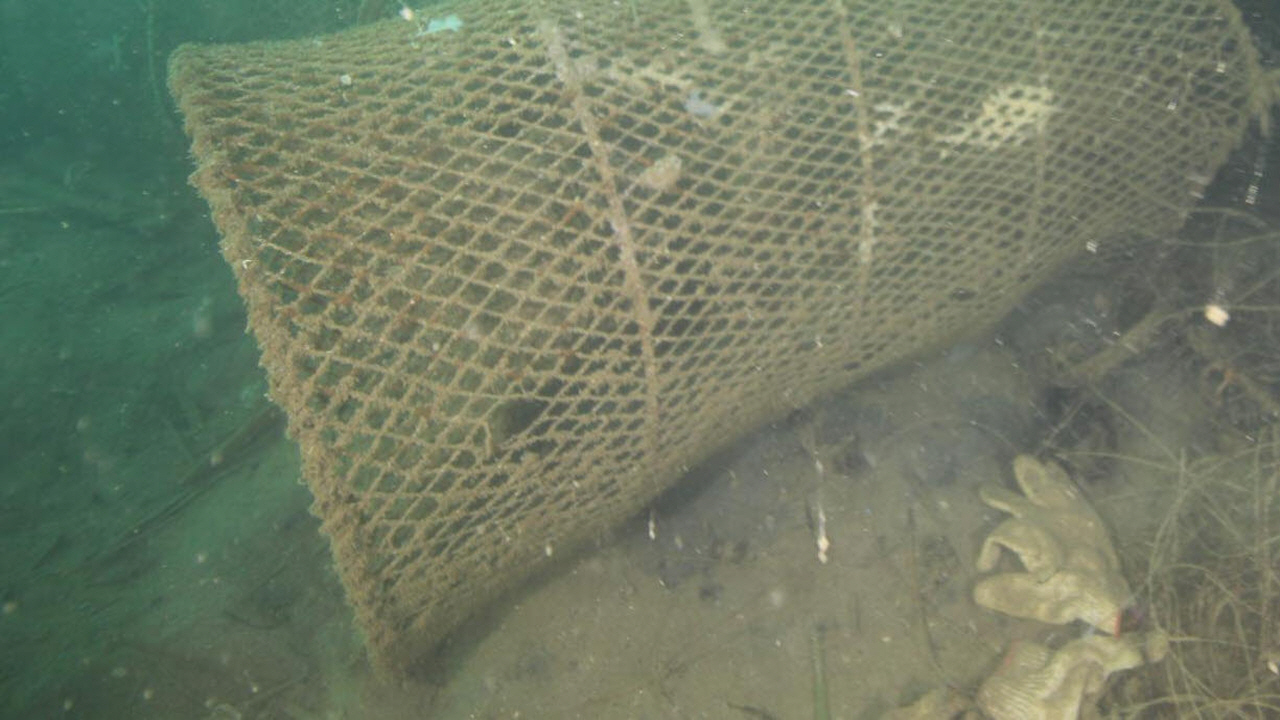spring fish trap: (164, 1, 1260, 684)
